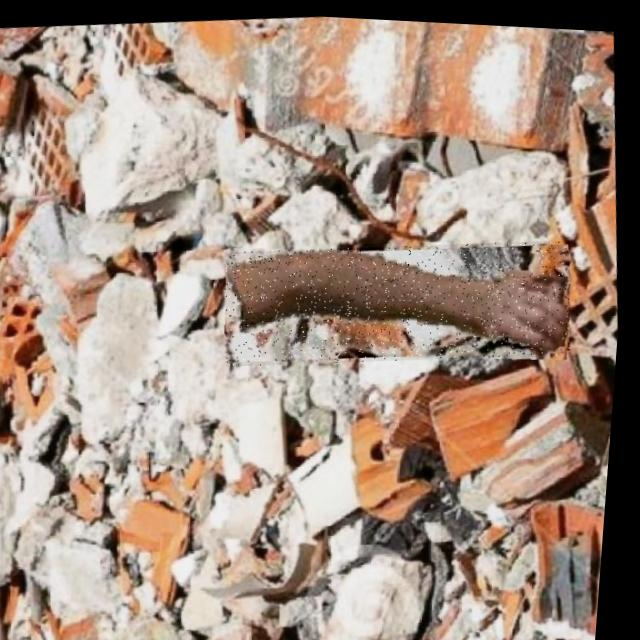Person in Rubble: (221, 218, 582, 377)
